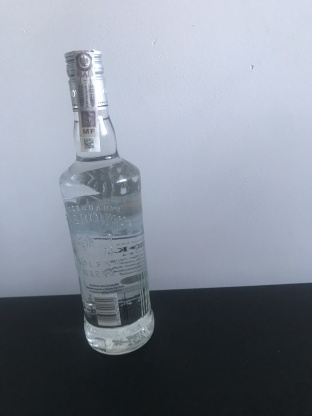nakretka: (62, 45, 110, 114)
